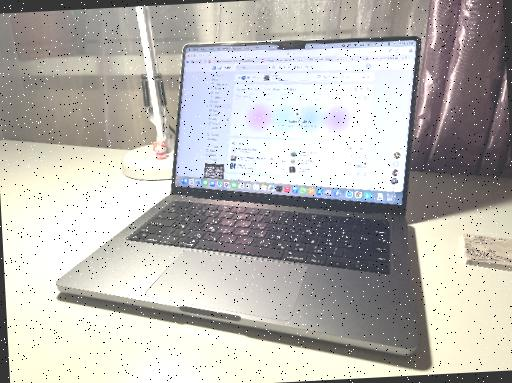vk: (170, 52, 420, 203)
